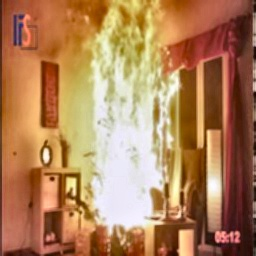fire: (75, 2, 172, 233)
